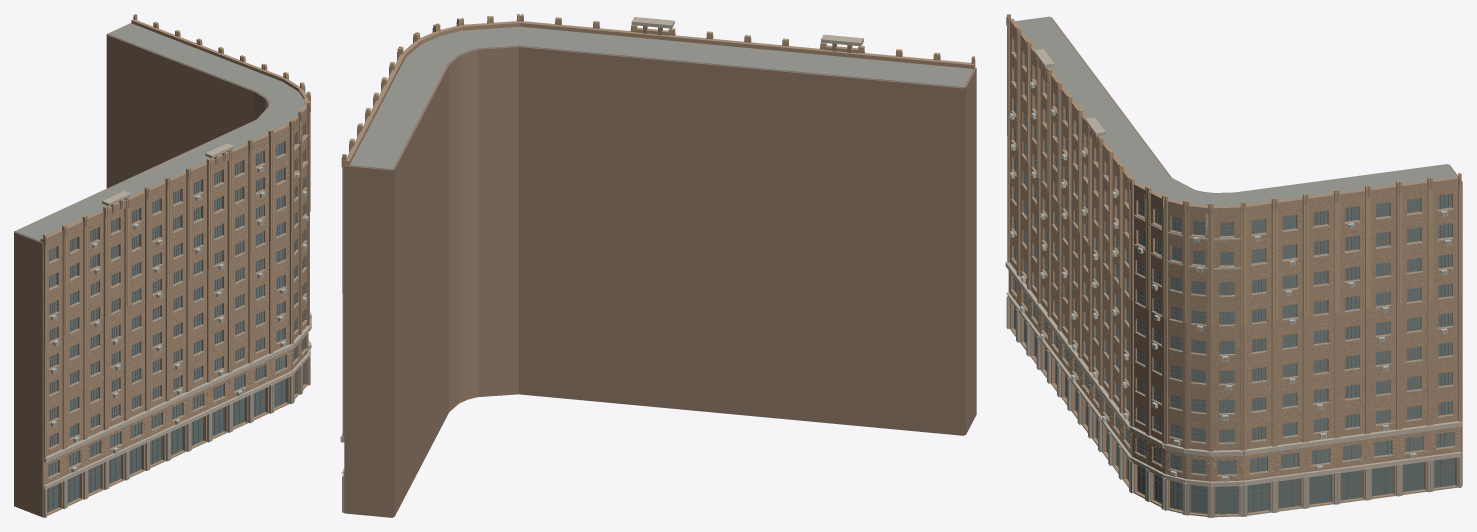
The model's file is jingan-denis-apartments-raw.glb.
The picture shows the model from 3 angles, left to right: view 1: azimuth 30°, elevation 25°; view 2: azimuth 150°, elevation 25°; view 3: azimuth 270°, elevation 25°; orthographic projection. The views are drawn at different scales.
Parts seen in each view (by area): view 1: 德义大楼（南京西路与石门路转角）; view 2: 德义大楼（南京西路与石门路转角）; view 3: 德义大楼（南京西路与石门路转角）.
Boxes of the visible parts, x1,y1,x2,y2 form: 德义大楼（南京西路与石门路转角）: (14, 14, 311, 517); 德义大楼（南京西路与石门路转角）: (340, 14, 976, 517); 德义大楼（南京西路与石门路转角）: (1005, 14, 1462, 517).
Bounding box in the file's own units: 52.58 × 39.71 × 51.55.
